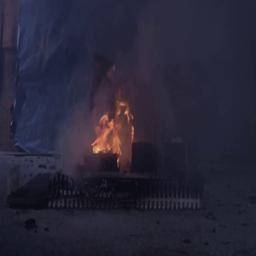fire: (91, 91, 137, 165)
